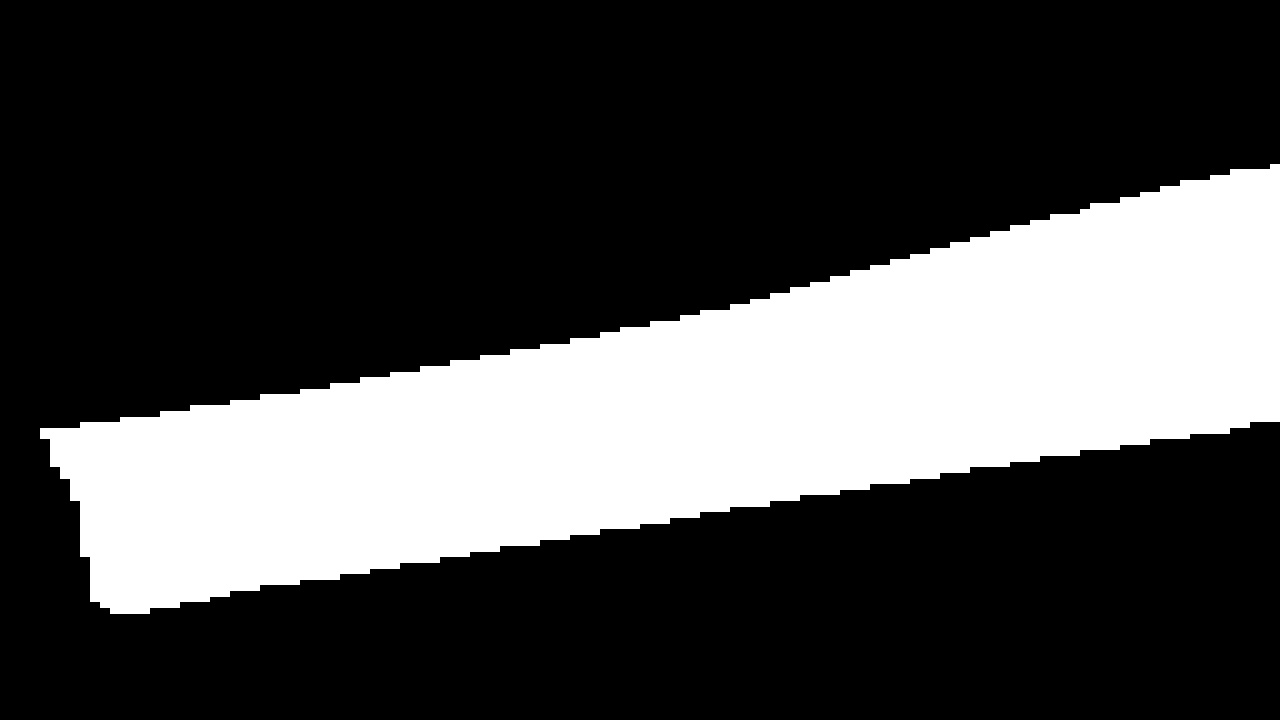Turbine: (75, 146, 1272, 649)
